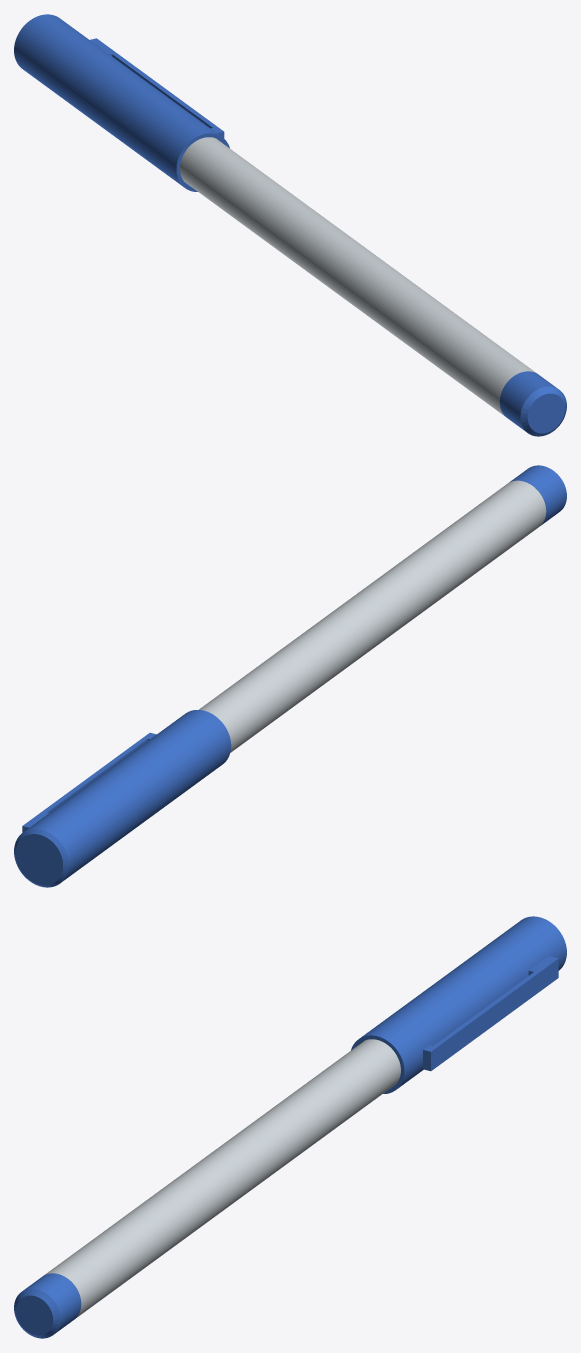
File: rorito_pen_assembly.glb
The picture shows the model from 3 angles, top to bottom: view 1: azimuth 30°, elevation 25°; view 2: azimuth 150°, elevation 25°; view 3: azimuth 330°, elevation 25°; orthographic projection.
Parts seen in each view (by area): view 1: Transparent_Barrel, Pen_Cap, Rear_End_Plug, Pocket_Clip; view 2: Transparent_Barrel, Pen_Cap, Rear_End_Plug, Pocket_Clip; view 3: Transparent_Barrel, Pen_Cap, Pocket_Clip, Rear_End_Plug.
Part boxes in pixels (x1,y1,x2,y2): Transparent_Barrel: [180, 137, 535, 416]; Pen_Cap: [14, 14, 229, 191]; Rear_End_Plug: [499, 371, 566, 436]; Pocket_Clip: [90, 38, 224, 138]; Transparent_Barrel: [199, 480, 546, 752]; Pen_Cap: [14, 710, 231, 887]; Rear_End_Plug: [509, 465, 566, 525]; Pocket_Clip: [22, 732, 156, 832]; Transparent_Barrel: [43, 1039, 400, 1318]; Pen_Cap: [351, 916, 566, 1093]; Pocket_Clip: [423, 956, 558, 1071]; Rear_End_Plug: [14, 1273, 81, 1338].
Bounding box in the file's own units: 11.09 × 9.4 × 151.
